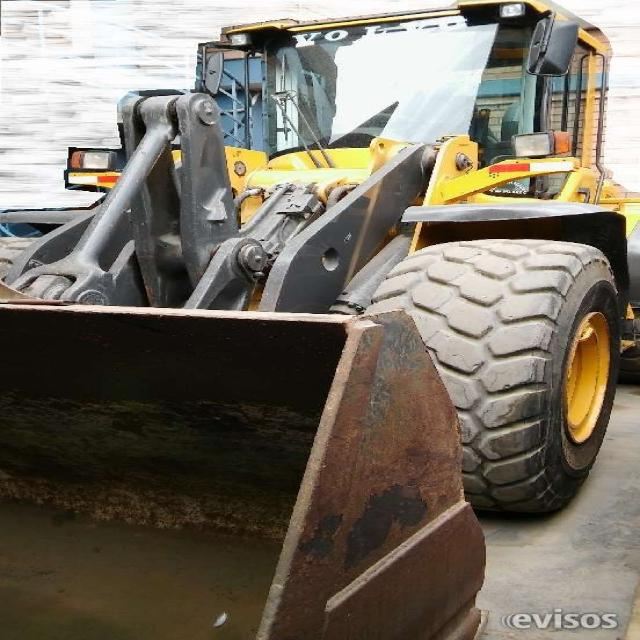buldozerpayloadergrader: (5, 1, 639, 640)
